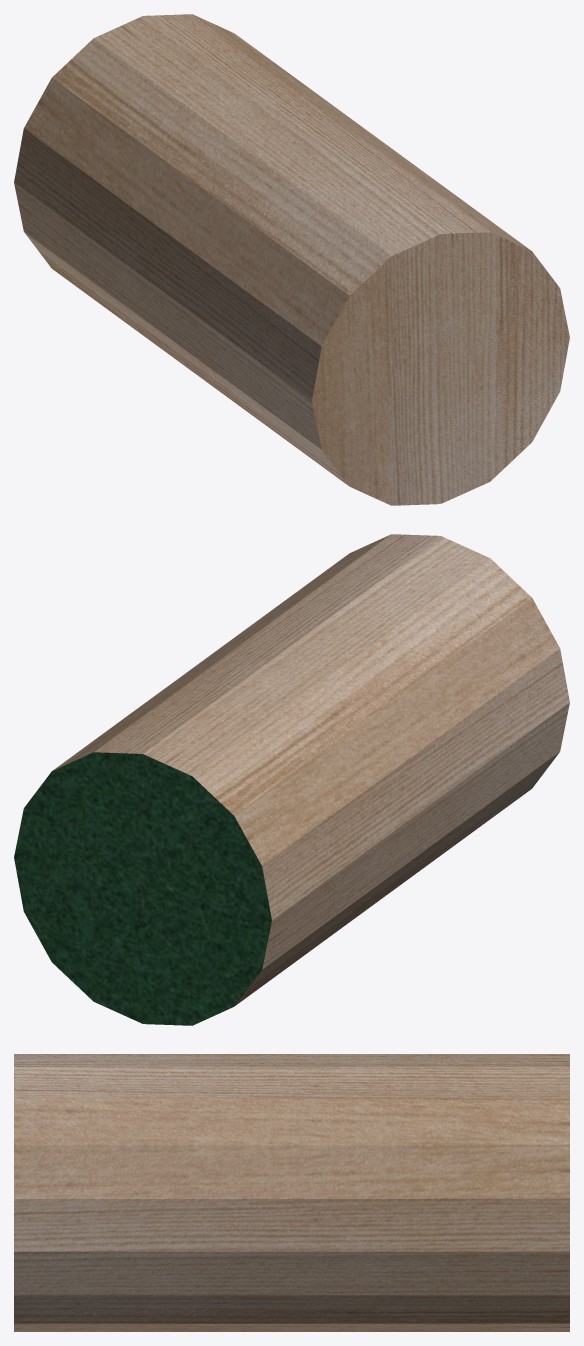
The picture shows the model from 3 angles, top to bottom: view 1: azimuth 30°, elevation 25°; view 2: azimuth 150°, elevation 25°; view 3: azimuth 270°, elevation 25°; orthographic projection. The views are drawn at different scales.
Visible parts, largest first — view 1: Cube_Cube_None_QuartoPieces.png; view 2: Cube_Cube_None_QuartoPieces.png; view 3: Cube_Cube_None_QuartoPieces.png.
Boxes of the visible parts, box(x1,y1,x2,y2) form: Cube_Cube_None_QuartoPieces.png: box(14, 14, 569, 505); Cube_Cube_None_QuartoPieces.png: box(14, 534, 569, 1025); Cube_Cube_None_QuartoPieces.png: box(14, 1054, 569, 1331).
Size of the model in its own units: 2 by 2 by 4.
